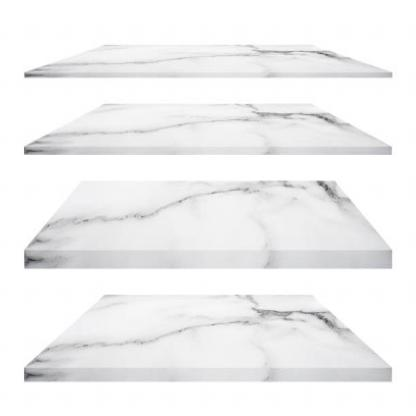Metamorphic_Marble: (16, 297, 397, 386), (15, 89, 408, 172), (15, 183, 397, 268), (19, 30, 400, 80)
